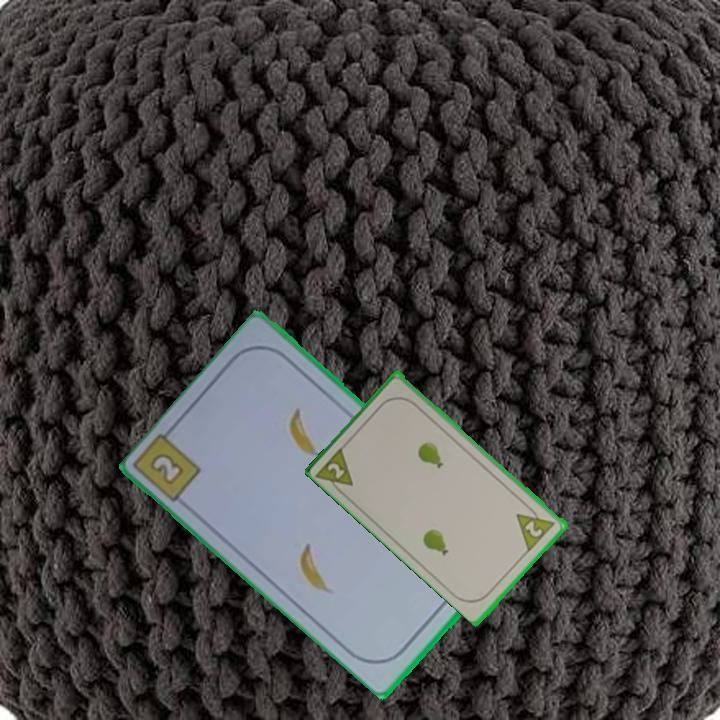2b: (146, 449, 188, 488)
2p: (313, 442, 357, 499), (513, 500, 559, 553)
